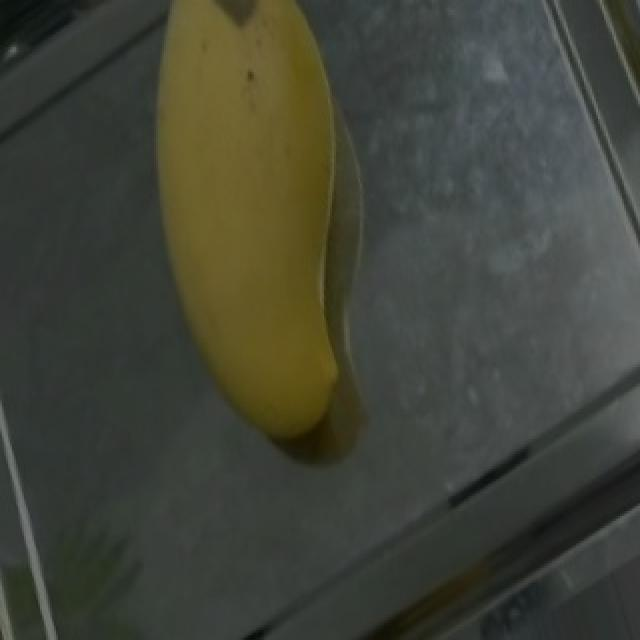fruit: (72, 2, 436, 350)
